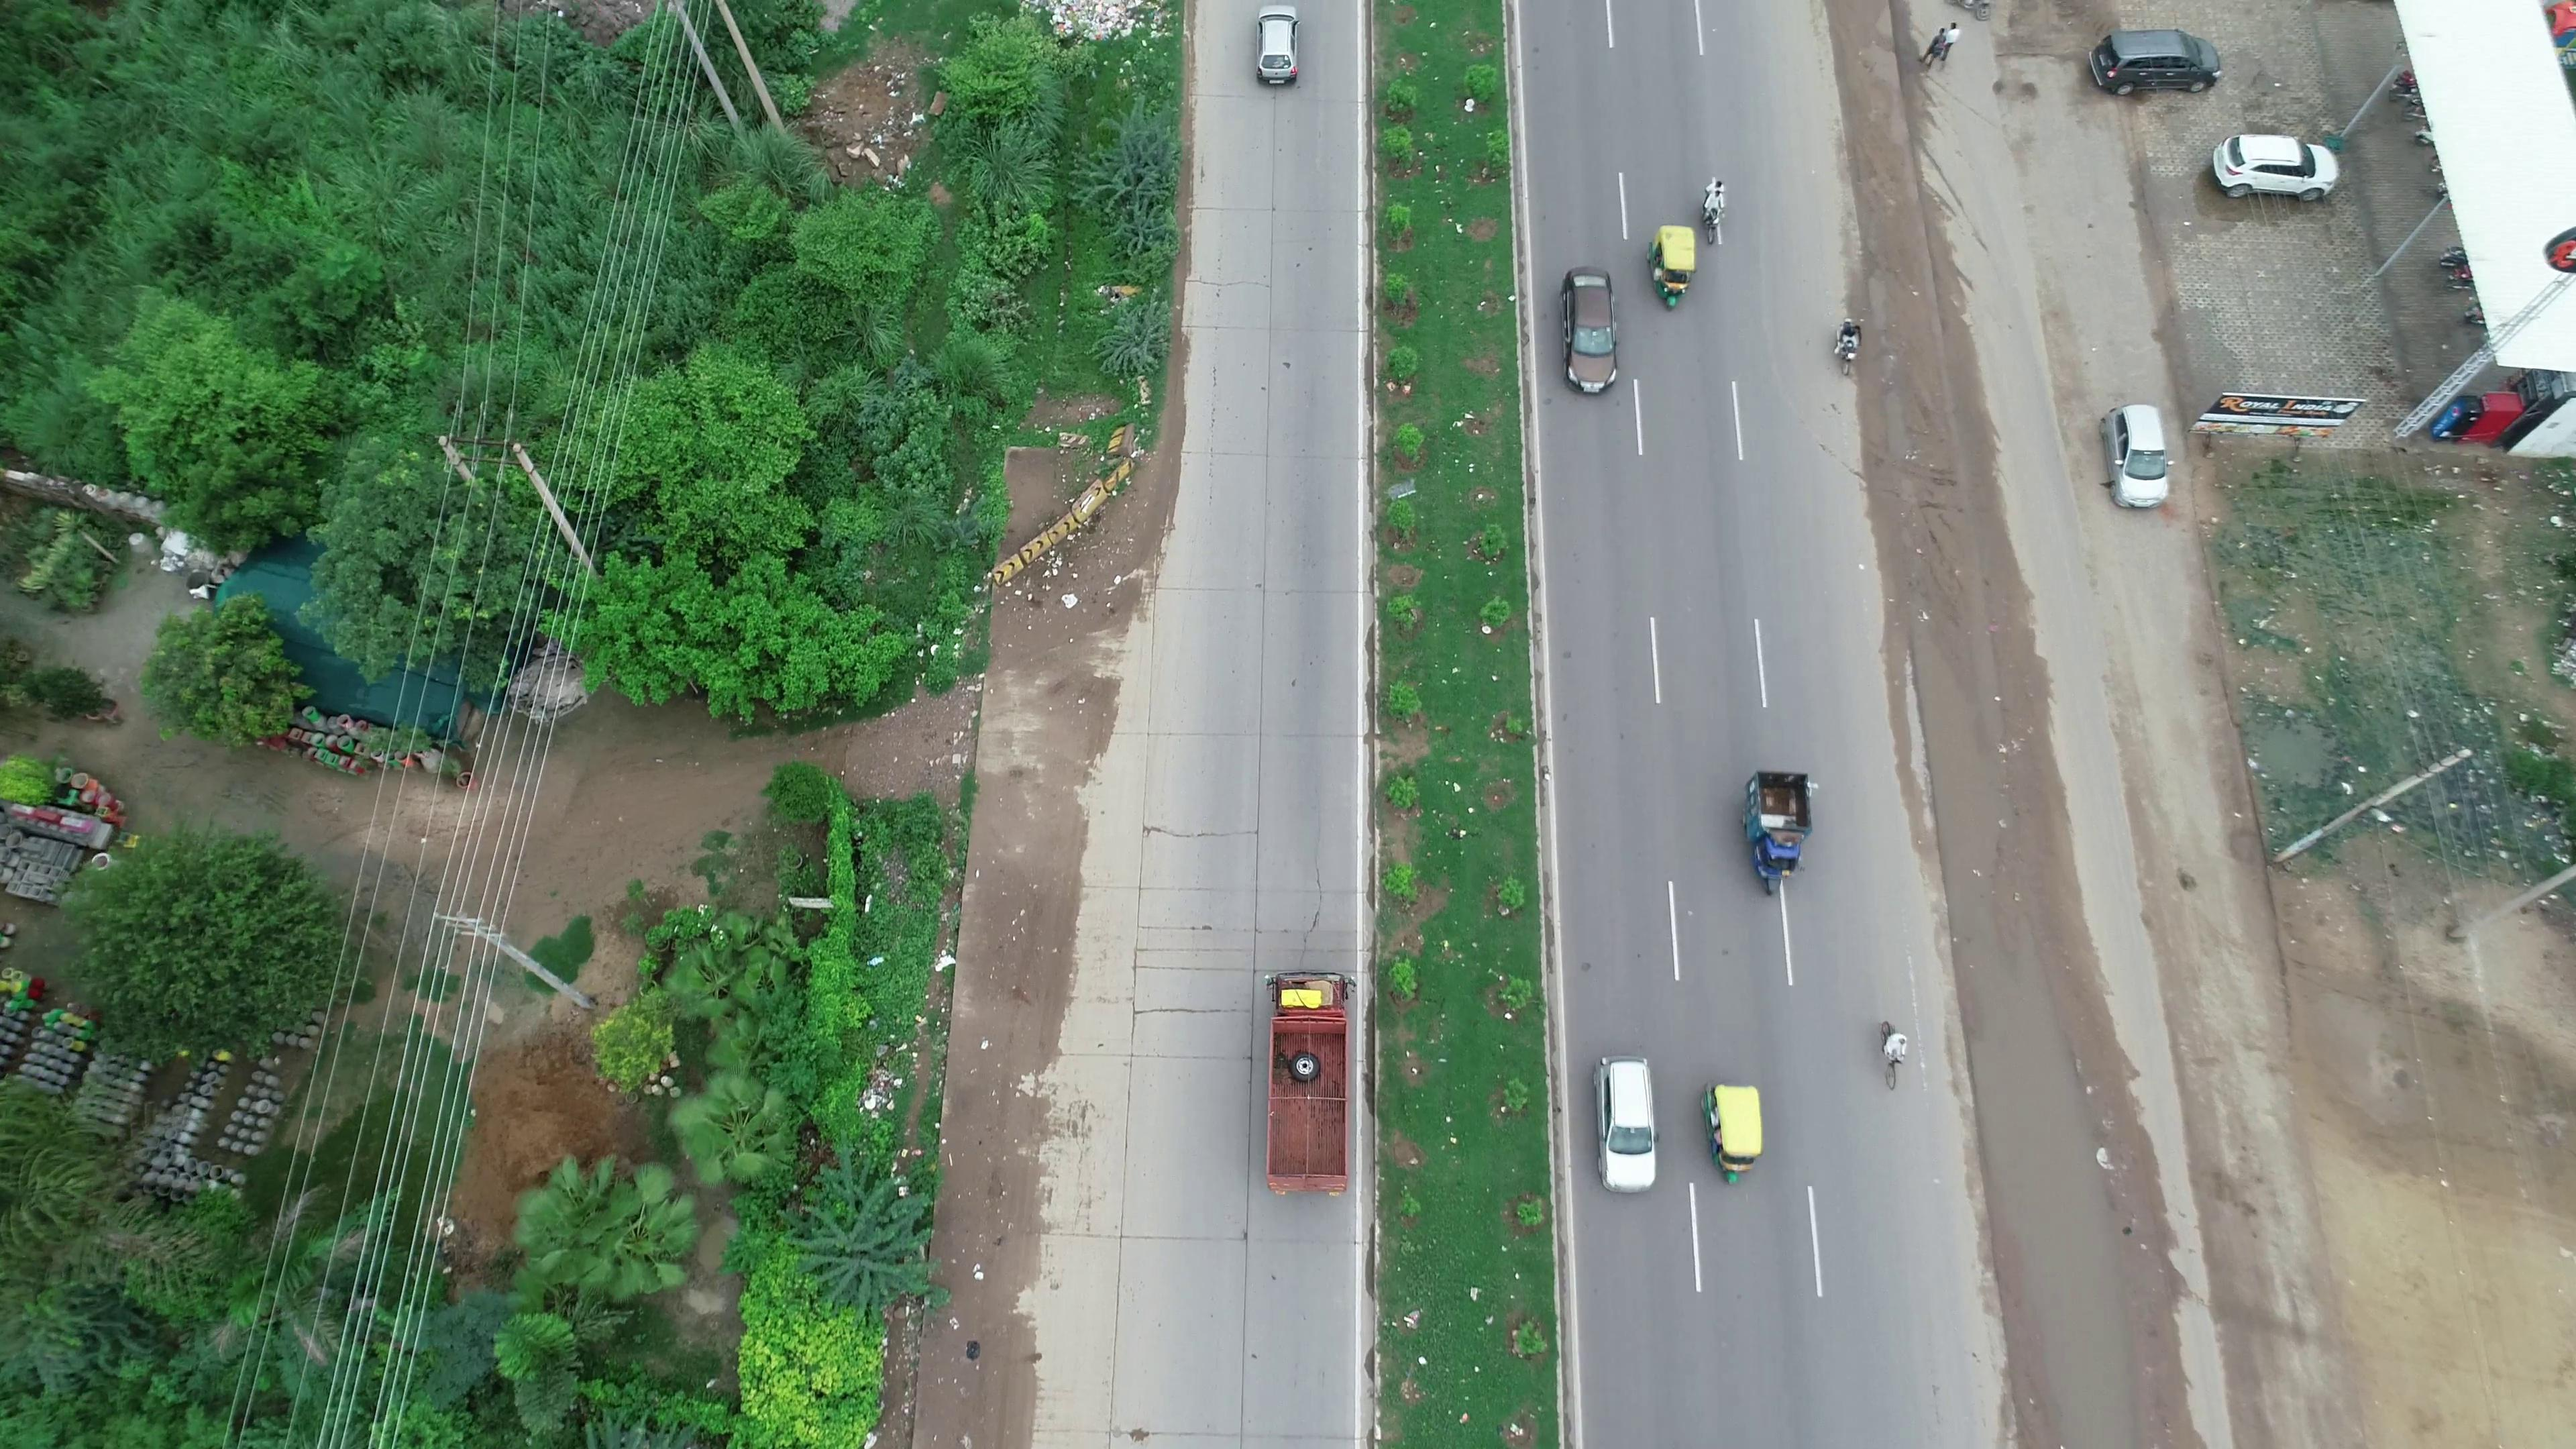Waterlogging: (1980, 1016, 2139, 1410)
